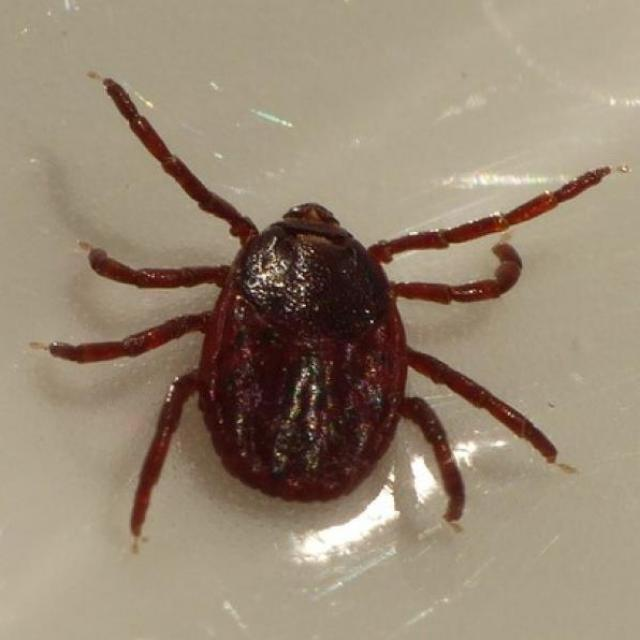Rhipicephalus Sanguineus-F: (44, 80, 623, 540)
